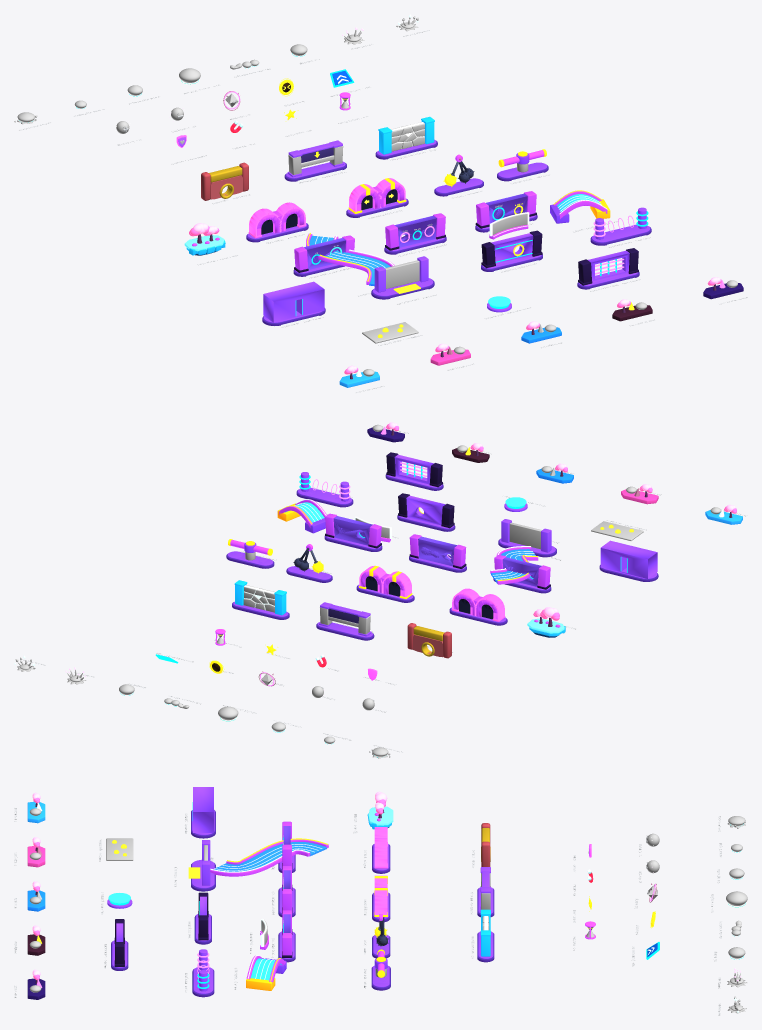
The model's file is ProjectJelly_Kit.fbx.
3 views of the same model, one above another, from view 1: azimuth 30°, elevation 25°; view 2: azimuth 150°, elevation 25°; view 3: azimuth 270°, elevation 25° (orthographic). The views are drawn at different scales.
Parts seen in each view (by area): view 1: Flex_Wall, MH_Split_Wall, SlideHole_Wall, Path_RoadDeck, Scale_Door, MH_Risk_Wall, MH_Size_Wall, Shatter_Wall, Sticky_Pad; view 2: Flex_Wall, MH_Risk_Wall, MH_Split_Wall, SlideHole_Wall, Scale_Door, MH_Size_Wall, Shatter_Wall; view 3: Path_RoadDeck, Flex_Wall, Sticky_Pad, Path_SideCurb_-1, Bridge_ArchedDeck.
Boxes of the visible parts, x1,y1,x2,y2 form: Flex_Wall: (263,281,324,322); MH_Split_Wall: (394,215,436,247); SlideHole_Wall: (491,233,533,264); Path_RoadDeck: (309,235,390,286); Scale_Door: (385,260,419,288); MH_Risk_Wall: (486,193,527,223); MH_Size_Wall: (304,238,345,269); Shatter_Wall: (588,250,629,282); Sticky_Pad: (362,322,418,343); Flex_Wall: (600,540,657,578); MH_Risk_Wall: (333,516,372,545); MH_Split_Wall: (418,536,456,566); SlideHole_Wall: (406,495,445,525); Scale_Door: (509,522,541,549); MH_Size_Wall: (502,557,541,586); Shatter_Wall: (394,454,433,484); Path_RoadDeck: (214,842,326,871); Flex_Wall: (193,787,213,832); Sticky_Pad: (106,838,133,860); Path_SideCurb_-1: (210,850,310,876); Bridge_ArchedDeck: (250,958,281,980).
Size of the model in its own units: 47.52 by 3.8 by 70.17.
